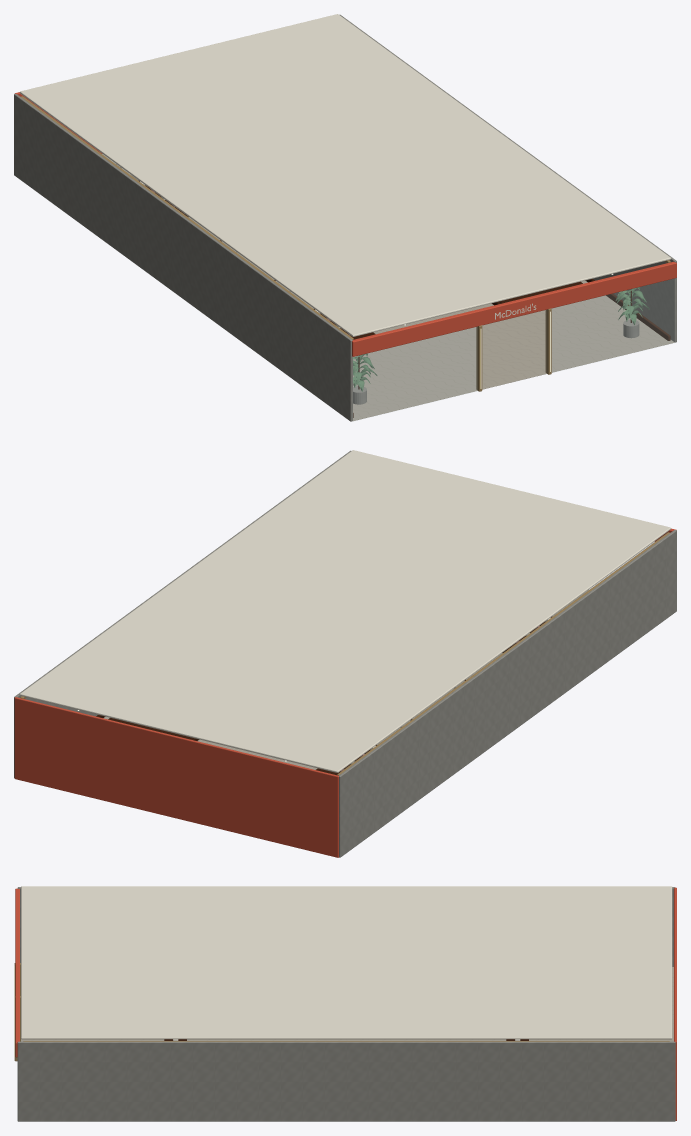
File: mcdonalds.glb
3 views of the same model, one above another, from view 1: azimuth 30°, elevation 25°; view 2: azimuth 150°, elevation 25°; view 3: azimuth 270°, elevation 25° (orthographic). The views are drawn at different scales.
Visible parts, largest first — view 1: Batched AUR-L1-MCDONALDS::Warm porcelain, Batched AUR-L1-MCDONALDS::Travertine, Batched AUR-L1-MCDONALDS::Cream marble, Batched AUR-L1-MCDONALDS::Tenant glass, Batched AUR-L1-MCDONALDS::Tenant mcdonalds, Batched AUR-L1-MCDONALDS::Bronze, Batched AUR-L1-MCDONALDS::Foliage, Batched AUR-L1-MCDONALDS::Walnut; view 2: Batched AUR-L1-MCDONALDS::Warm porcelain, Batched AUR-L1-MCDONALDS::Travertine, Batched AUR-L1-MCDONALDS::Tenant mcdonalds, Batched AUR-L1-MCDONALDS::Bronze; view 3: Batched AUR-L1-MCDONALDS::Warm porcelain, Batched AUR-L1-MCDONALDS::Travertine, Batched AUR-L1-MCDONALDS::Tenant mcdonalds, Batched AUR-L1-MCDONALDS::Cream marble, Batched AUR-L1-MCDONALDS::Bronze.
Boxes of the visible parts, x1,y1,x2,y2 form: Batched AUR-L1-MCDONALDS::Warm porcelain: (19, 14, 671, 336); Batched AUR-L1-MCDONALDS::Travertine: (14, 14, 676, 421); Batched AUR-L1-MCDONALDS::Cream marble: (102, 154, 675, 421); Batched AUR-L1-MCDONALDS::Tenant glass: (104, 155, 675, 421); Batched AUR-L1-MCDONALDS::Tenant mcdonalds: (14, 92, 676, 356); Batched AUR-L1-MCDONALDS::Bronze: (21, 96, 670, 391); Batched AUR-L1-MCDONALDS::Foliage: (353, 287, 649, 391); Batched AUR-L1-MCDONALDS::Walnut: (138, 180, 670, 417); Batched AUR-L1-MCDONALDS::Warm porcelain: (19, 450, 671, 772); Batched AUR-L1-MCDONALDS::Travertine: (14, 450, 676, 857); Batched AUR-L1-MCDONALDS::Tenant mcdonalds: (14, 528, 676, 857); Batched AUR-L1-MCDONALDS::Bronze: (20, 532, 669, 775); Batched AUR-L1-MCDONALDS::Warm porcelain: (21, 886, 672, 1040); Batched AUR-L1-MCDONALDS::Travertine: (17, 887, 675, 1121); Batched AUR-L1-MCDONALDS::Tenant mcdonalds: (15, 887, 676, 1120); Batched AUR-L1-MCDONALDS::Cream marble: (21, 967, 673, 1041); Batched AUR-L1-MCDONALDS::Bronze: (14, 963, 669, 1061).
Bounding box in the file's own units: 20.16 × 4.97 × 36.29.
12 materials, 4 textured.
